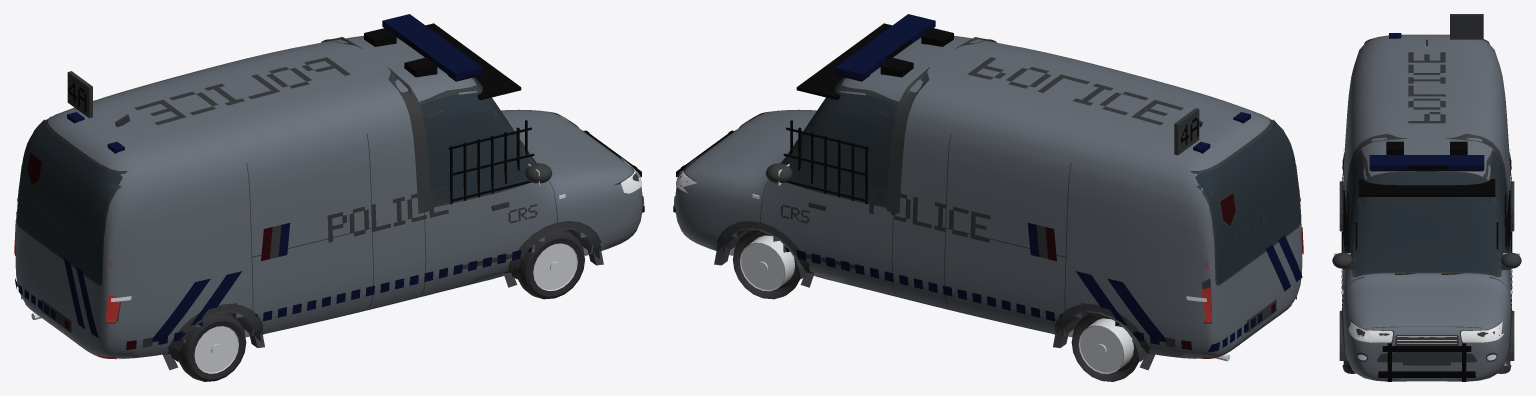
File: crs_van.glb
3 views of the same model, side by side, from view 1: azimuth 30°, elevation 25°; view 2: azimuth 150°, elevation 25°; view 3: azimuth 270°, elevation 25° (orthographic). The views are drawn at different scales.
Visible parts, largest first — view 1: Body, RearGlass, Glass-1, WheelRR, WheelFR, LightBar, Bpillar-1, CrsWsGrid, ArchTrim-1, ArchTrim-1.001, RgFrame, CrsStripe1-1 (+4 smaller); view 2: Body, RearGlass, Glass1, WheelFL, WheelRL, LightBar, Bpillar1, CrsWsGrid, ArchTrim1, ArchTrim1.001, RgFrame, CrsStripe11 (+4 smaller); view 3: Body, Windshield, CrsWsGrid, LightBar, Glass1, Glass-1, HeadReflector, Intake, CrsRoofPlate, CrsBullL, Grille, WsFrame (+16 smaller).
Part boxes in pixels (box(x1,y1,x2,y2)): Body: box(15, 35, 642, 358); RearGlass: box(17, 119, 122, 282); Glass-1: box(420, 92, 536, 205); WheelRR: box(178, 312, 246, 381); WheelFR: box(517, 230, 584, 299); LightBar: box(382, 14, 482, 80); Bpillar-1: box(388, 67, 431, 213); CrsWsGrid: box(425, 23, 521, 100); ArchTrim-1: box(503, 221, 603, 287); ArchTrim-1.001: box(163, 303, 264, 370); RgFrame: box(17, 116, 127, 285); CrsStripe1-1: box(152, 278, 210, 342); Body: box(675, 35, 1302, 358); RearGlass: box(1195, 119, 1300, 282); Glass1: box(781, 92, 897, 205); WheelFL: box(733, 230, 800, 299); WheelRL: box(1071, 312, 1139, 381); LightBar: box(835, 14, 935, 80); Bpillar1: box(886, 67, 929, 213); CrsWsGrid: box(796, 23, 892, 100); ArchTrim1: box(714, 221, 814, 287); ArchTrim1.001: box(1053, 303, 1154, 370); RgFrame: box(1190, 116, 1300, 285); CrsStripe11: box(1107, 278, 1165, 342); Body: box(1342, 34, 1511, 381); Windshield: box(1355, 172, 1498, 274); CrsWsGrid: box(1358, 179, 1495, 196); LightBar: box(1369, 155, 1484, 170); Glass1: box(1478, 152, 1509, 268); Glass-1: box(1344, 152, 1372, 268); HeadReflector: box(1348, 322, 1503, 342); Intake: box(1377, 352, 1476, 362); CrsRoofPlate: box(1450, 14, 1483, 39); CrsBullL: box(1378, 371, 1475, 377); Grille: box(1395, 335, 1458, 345); WsFrame: box(1352, 171, 1501, 276).
Size of the model in its own units: 5.72 by 2.56 by 2.15.
